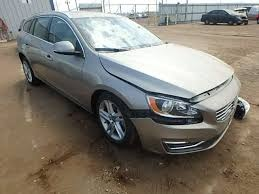Smashed: (129, 84, 221, 155), (96, 51, 134, 88)
